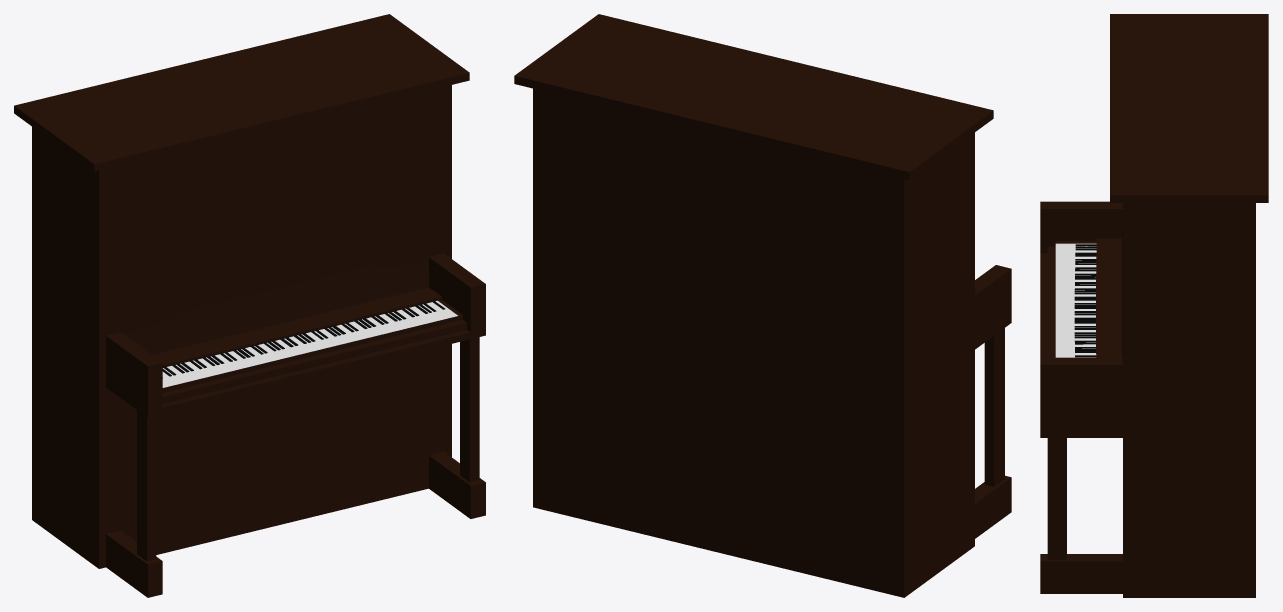
The model's file is Piano.FBX.
3 views of the same model, side by side, from view 1: azimuth 30°, elevation 25°; view 2: azimuth 150°, elevation 25°; view 3: azimuth 270°, elevation 25° (orthographic). The views are drawn at different scales.
Visible parts, largest first — view 1: Piano; view 2: Piano; view 3: Piano.
Part boxes in pixels (x1,y1,x2,y2): Piano: (14, 14, 485, 597); Piano: (514, 14, 1011, 597); Piano: (1040, 14, 1268, 597).
Bounding box in the file's own units: 108 × 113 × 57.49.
